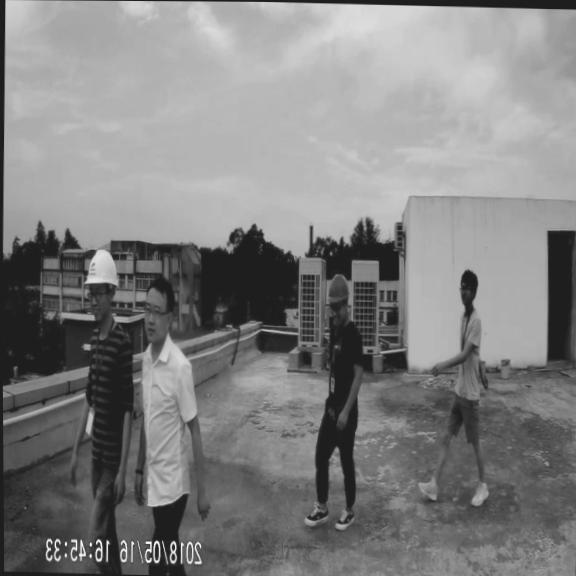no_safety_vest: (133, 336, 202, 475), (79, 322, 135, 447), (312, 313, 369, 427), (443, 309, 486, 409)
